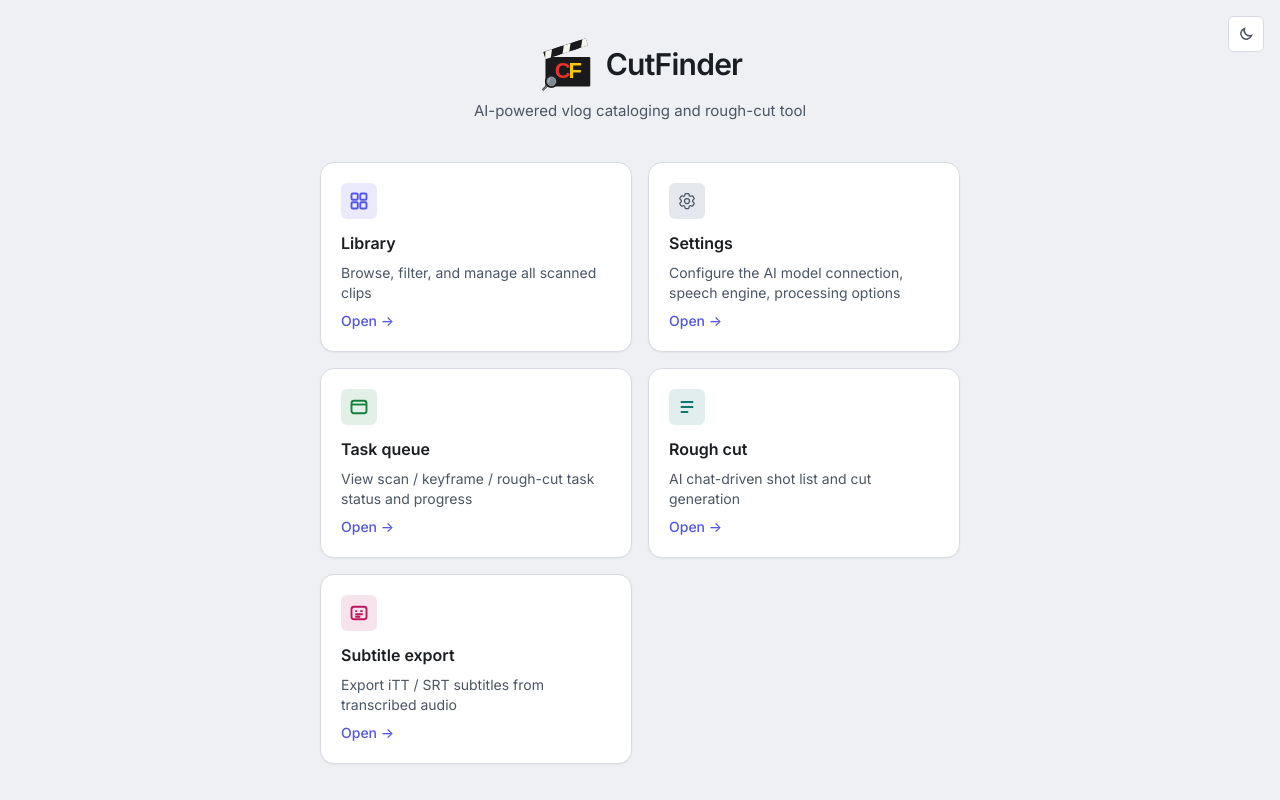
Test: App — navigating from the launcher while clips are still loading › lands on the target page (not the bare loading skeleton) when a launcher card is clicked before /api/clips resolves
The image size is (1280, 800).
Click the button "Settings": (687, 201) top-left (648, 162), bottom-right (960, 352)
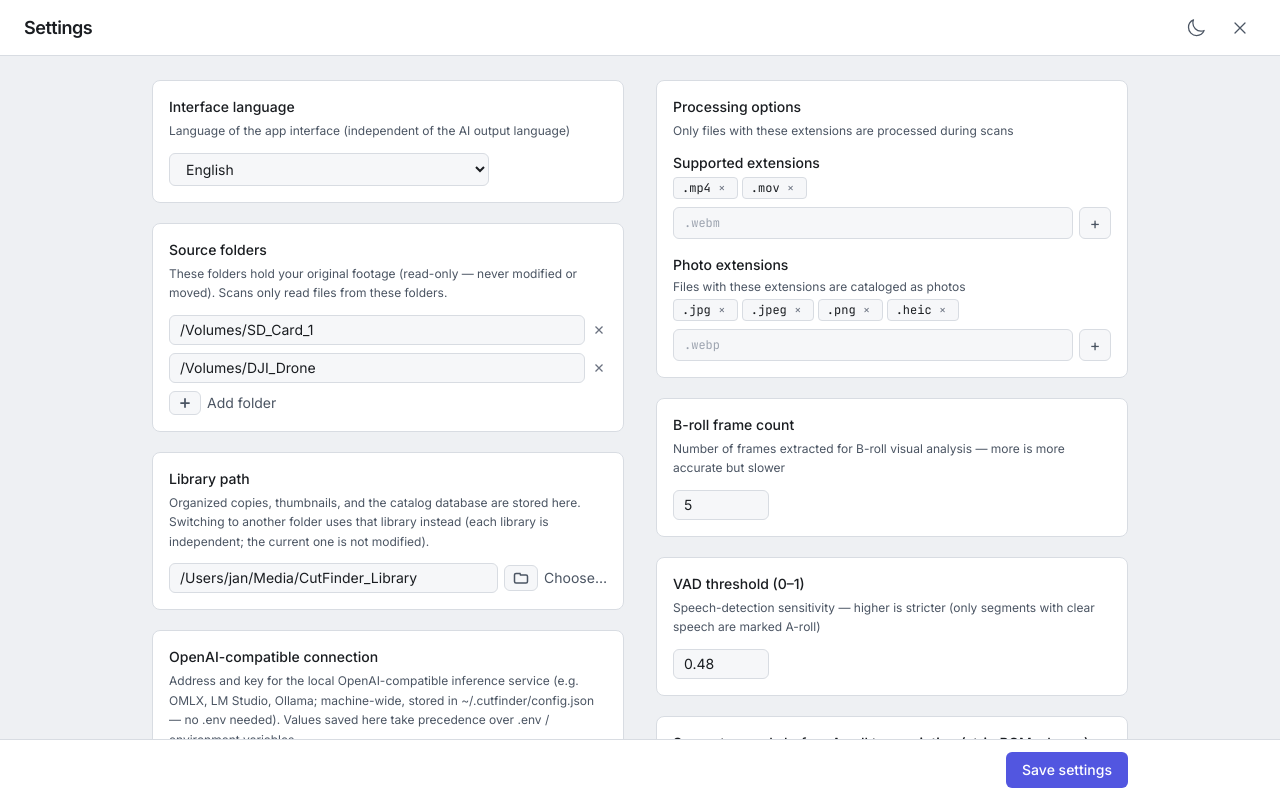
Check: the heading "Settings" is shown, box top-left (24, 14), bottom-right (92, 42)
